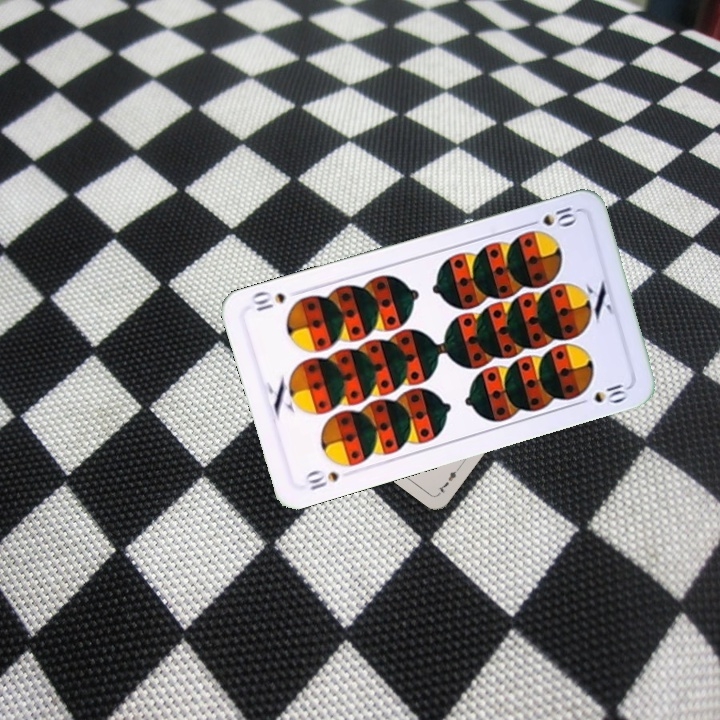E7: (434, 461, 464, 496)
S10: (522, 203, 580, 229), (301, 466, 342, 493)
